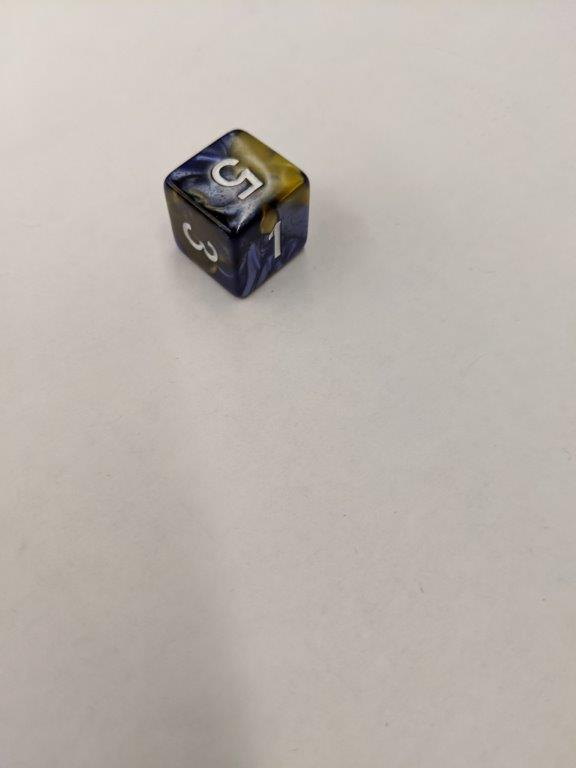d6-5: (163, 127, 311, 300)
